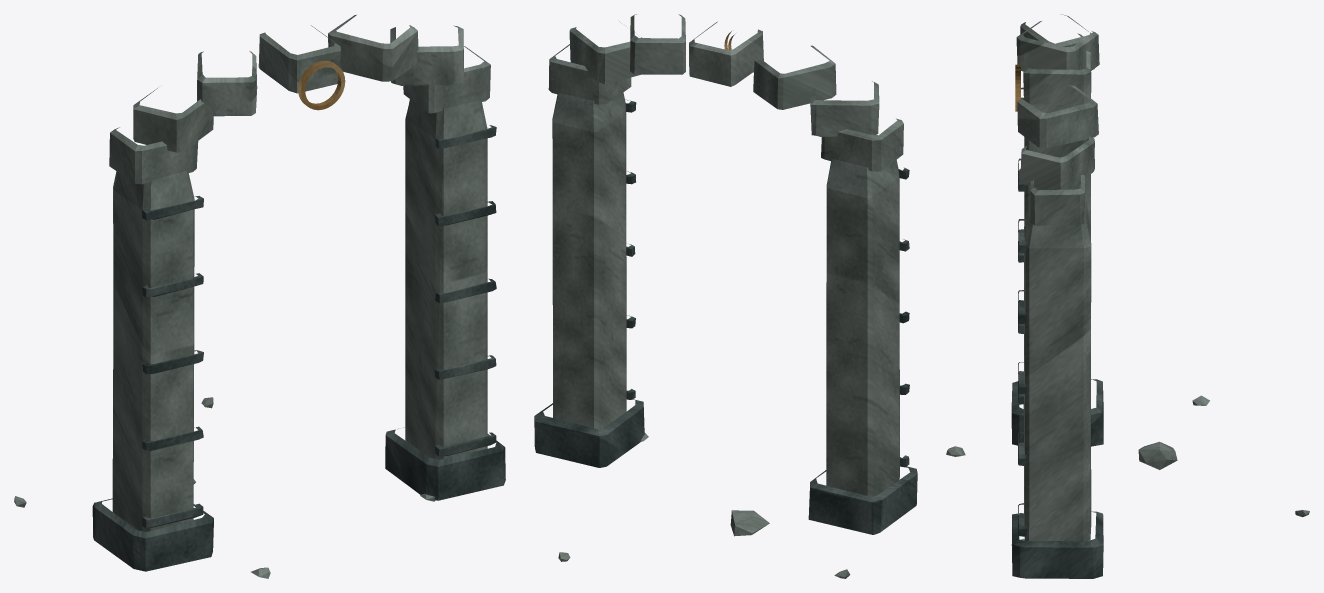
File: 0315_archway_15.glb
3 renders of one model, left to right at view 1: azimuth 30°, elevation 25°; view 2: azimuth 150°, elevation 25°; view 3: azimuth 270°, elevation 25°, orthographic. The views are drawn at different scales.
Visible parts, largest first — view 1: stone, stone_dark, brass; view 2: stone, stone_dark; view 3: stone, stone_dark.
Part boxes in pixels (box(x1,y1,x2,y2)): stone: box(14, 15, 490, 578); stone_dark: box(92, 125, 505, 571); brass: box(298, 60, 345, 110); stone: box(548, 14, 903, 578); stone_dark: box(534, 99, 917, 534); stone: box(946, 14, 1309, 541); stone_dark: box(1011, 87, 1103, 578).
Bounding box in the file's own units: 3.94 × 4.54 × 3.41.
3 materials, 3 textured.
